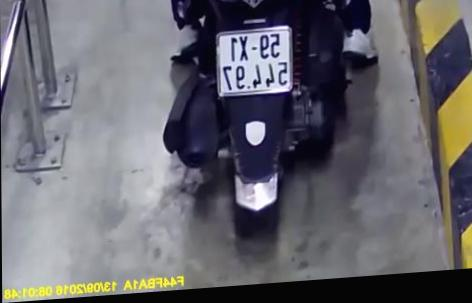License_Plate: (210, 21, 299, 97)
